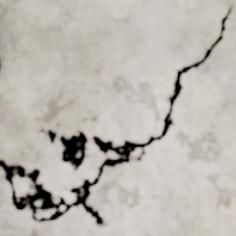brick: (0, 10, 235, 235), (0, 0, 235, 202)
crack: (0, 2, 235, 233), (0, 57, 2, 76)
